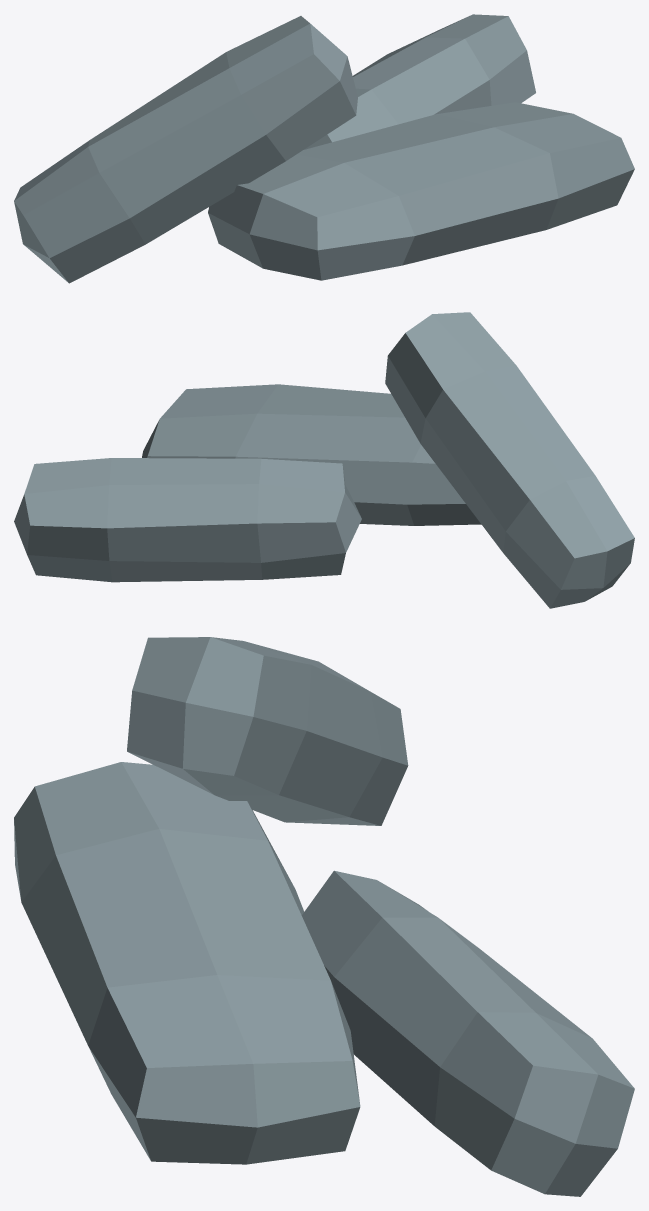
The model's file is Stonehenge_P4.obj.
The picture shows the model from 3 angles, top to bottom: view 1: azimuth 30°, elevation 25°; view 2: azimuth 150°, elevation 25°; view 3: azimuth 270°, elevation 25°; orthographic projection. The views are drawn at different scales.
Visible parts, largest first — view 1: Cube.005_Cube.006, Cube.004_Cube.005, Cube.003_Cube.004; view 2: Cube.003_Cube.004, Cube.004_Cube.005, Cube.005_Cube.006; view 3: Cube.005_Cube.006, Cube.003_Cube.004, Cube.004_Cube.005.
Boxes of the visible parts, left/top/right/bottom form: Cube.005_Cube.006: left=208, top=102, right=634, bottom=280; Cube.004_Cube.005: left=14, top=16, right=357, bottom=283; Cube.003_Cube.004: left=304, top=14, right=535, bottom=149; Cube.003_Cube.004: left=14, top=458, right=361, bottom=582; Cube.004_Cube.005: left=385, top=312, right=634, bottom=608; Cube.005_Cube.006: left=142, top=384, right=481, bottom=525; Cube.005_Cube.006: left=14, top=762, right=360, bottom=1164; Cube.003_Cube.004: left=301, top=870, right=634, bottom=1196; Cube.004_Cube.005: left=127, top=637, right=408, bottom=825.
Bounding box in the file's own units: 74.49 × 31.98 × 49.51.
Materials: 1 (1 with a texture image).
